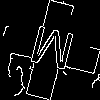M: (25, 25, 77, 80)
